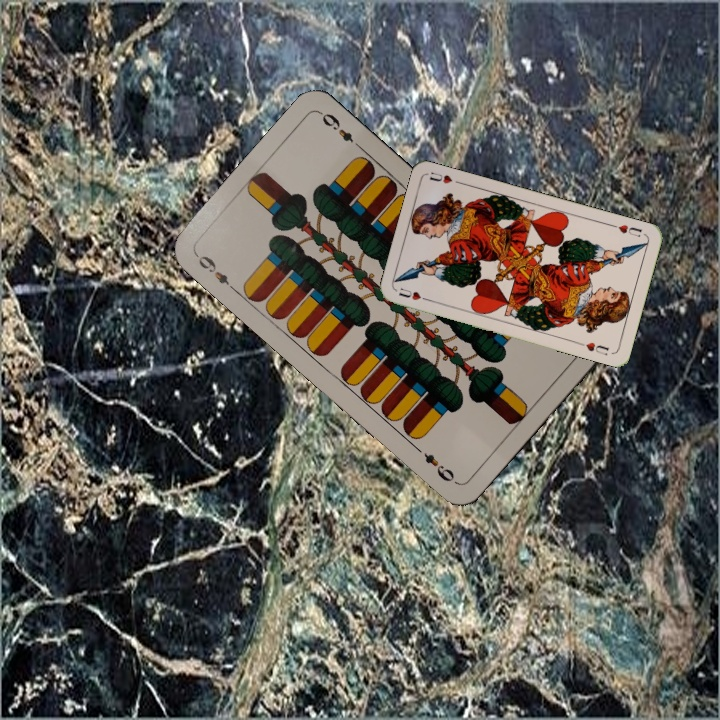E9: (192, 249, 239, 295)
HU: (394, 283, 433, 304), (607, 220, 644, 240)
